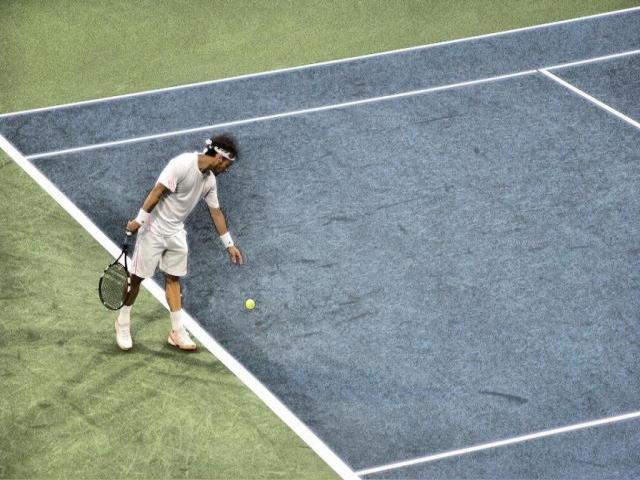tennis-ball: (244, 298, 256, 310)
